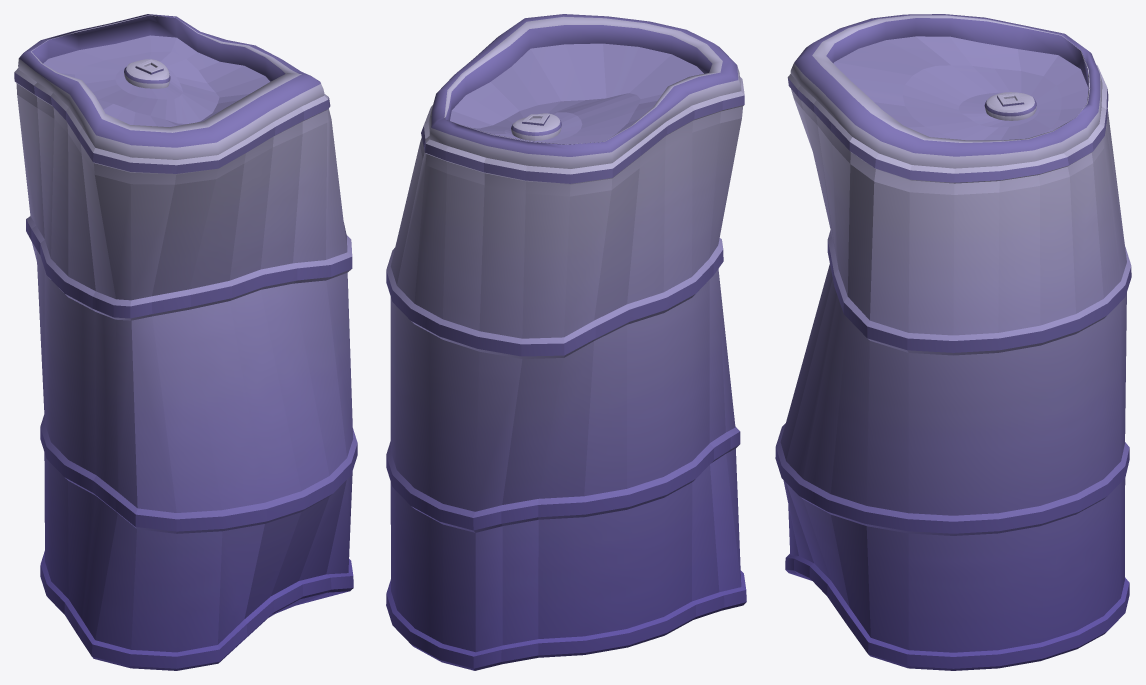
File: Barrel 1.fbx
The picture shows the model from 3 angles, left to right: view 1: azimuth 30°, elevation 25°; view 2: azimuth 150°, elevation 25°; view 3: azimuth 270°, elevation 25°; orthographic projection. The views are drawn at different scales.
Parts seen in each view (by area): view 1: MDL_Barrel.006; view 2: MDL_Barrel.006; view 3: MDL_Barrel.006.
Part boxes in pixels (<box>): MDL_Barrel.006: <box>14,14,357,670</box>; MDL_Barrel.006: <box>386,14,746,670</box>; MDL_Barrel.006: <box>775,14,1131,670</box>.
Size of the model in its own units: 192 by 346 by 209.
